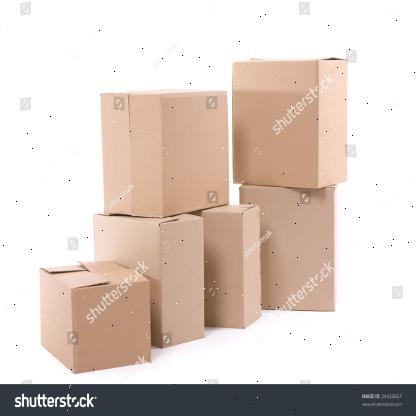box: (232, 58, 320, 188), (242, 188, 336, 309), (159, 94, 229, 218), (72, 278, 151, 376), (159, 218, 205, 350), (197, 213, 242, 329)
